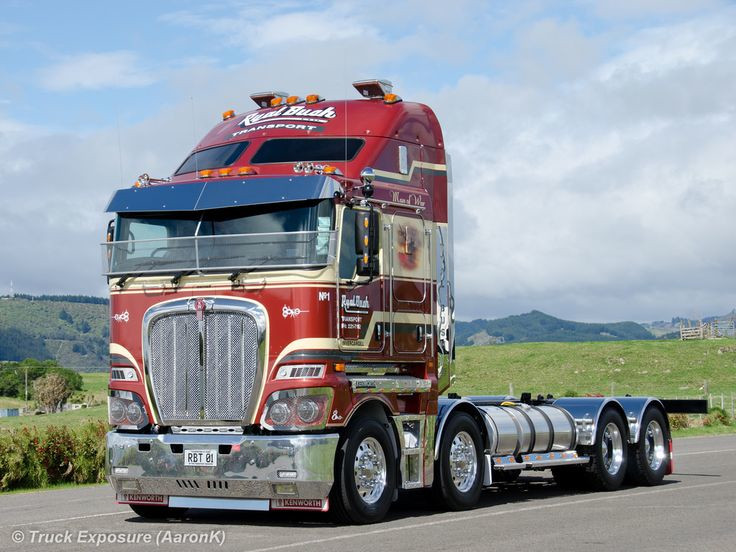truck: (100, 79, 711, 526)
